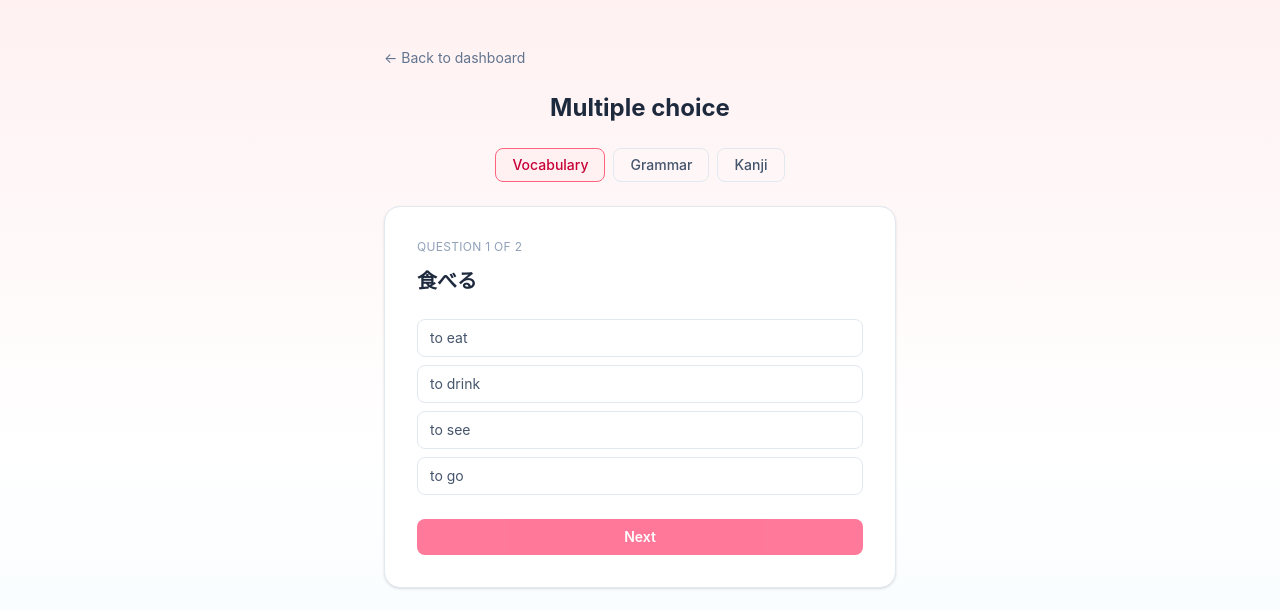
Test case: QuizPage › asks the AI Tutor to explain an incorrect answer
What coordinates should you click on to do the following:
click the radio button labelled "to eat"
I would click on:
 (449, 338)
Its box is [417, 319, 863, 357].
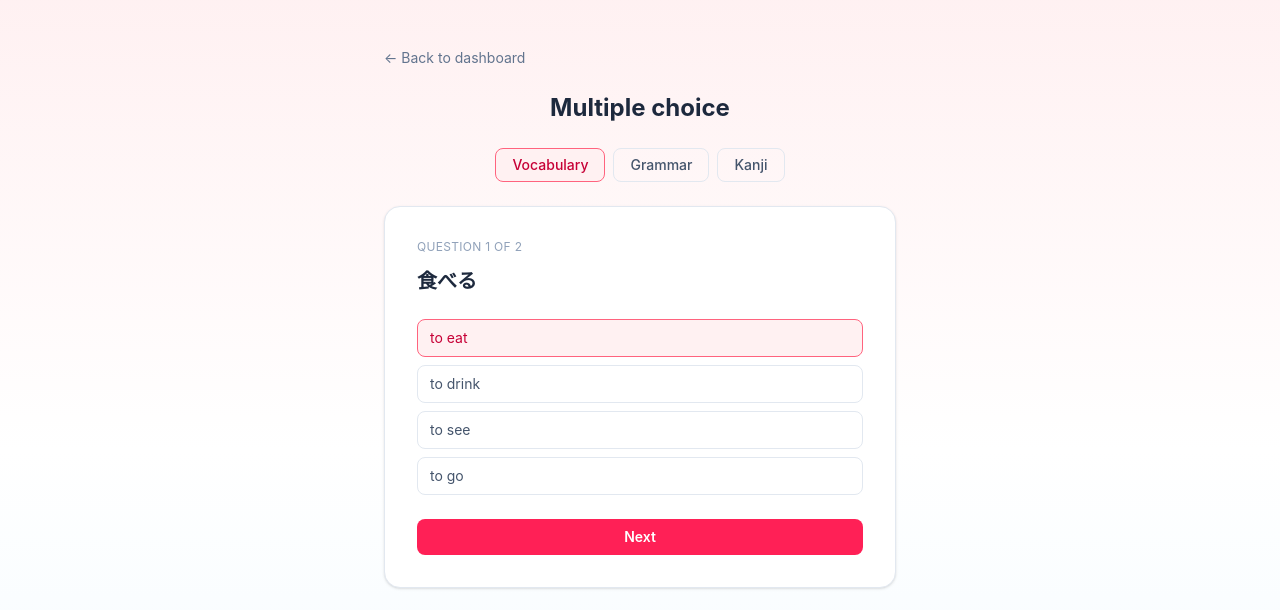
What coordinates should you click on to do the following:
click the button "Next"
I would click on:
 (640, 537)
Its box is [417, 519, 863, 555].
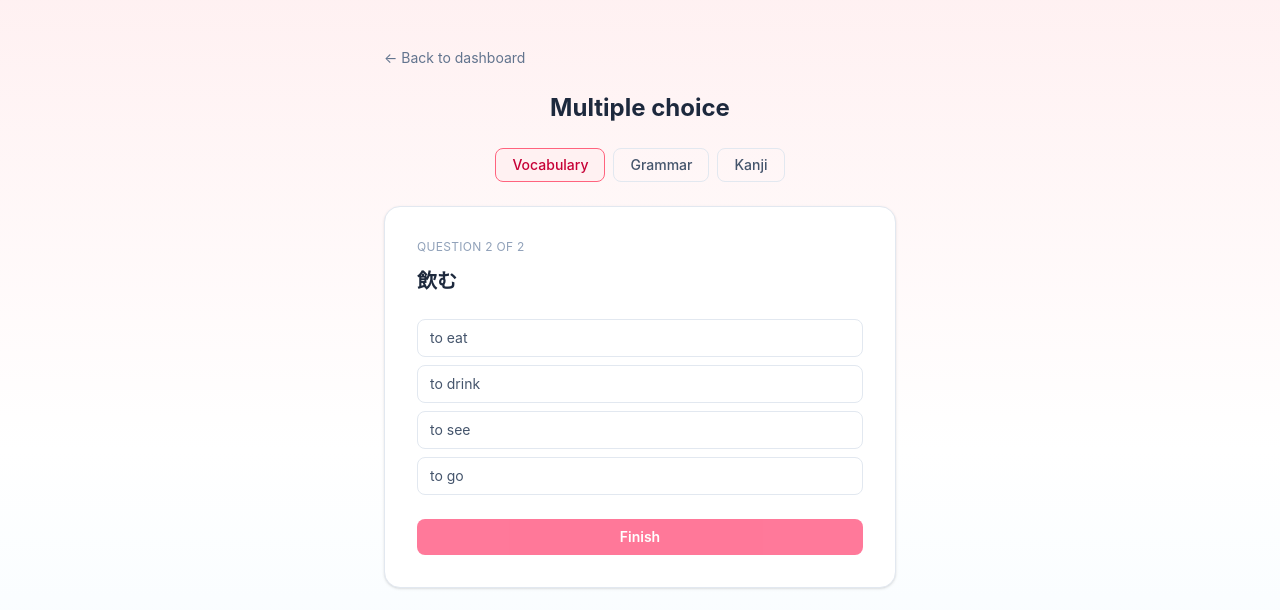
What coordinates should you click on to do the following:
click the radio button labelled "to see"
I would click on:
 (450, 430)
Its box is [417, 411, 863, 449].
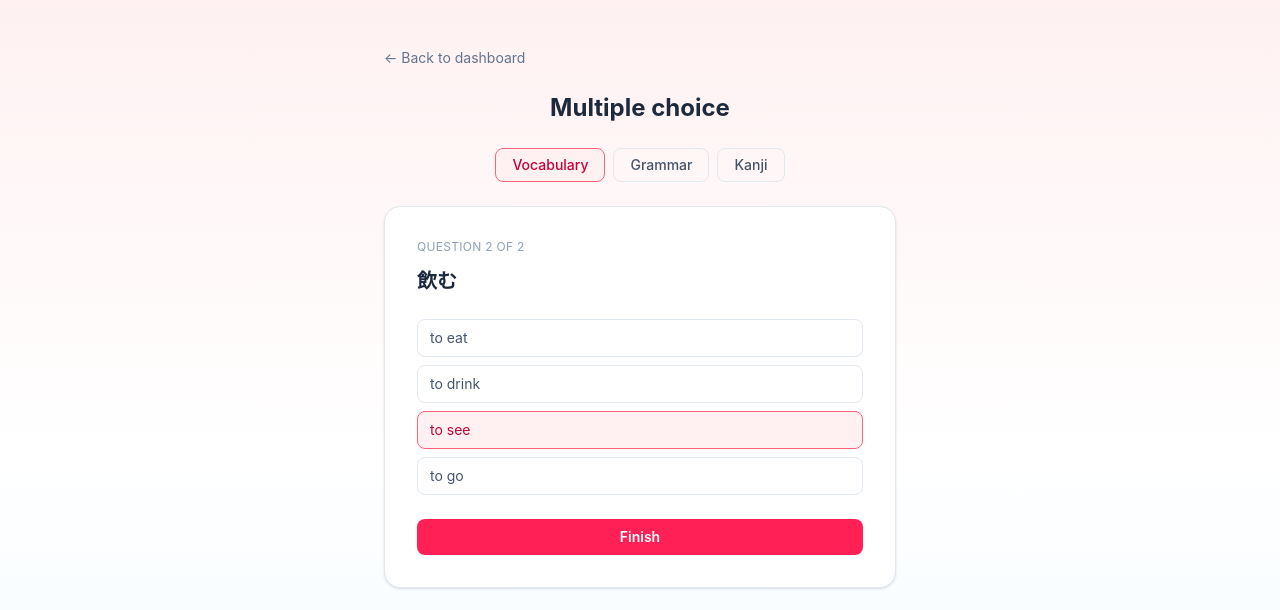
What coordinates should you click on to do the following:
click the button "Finish"
I would click on:
 (640, 537)
Its box is [417, 519, 863, 555].
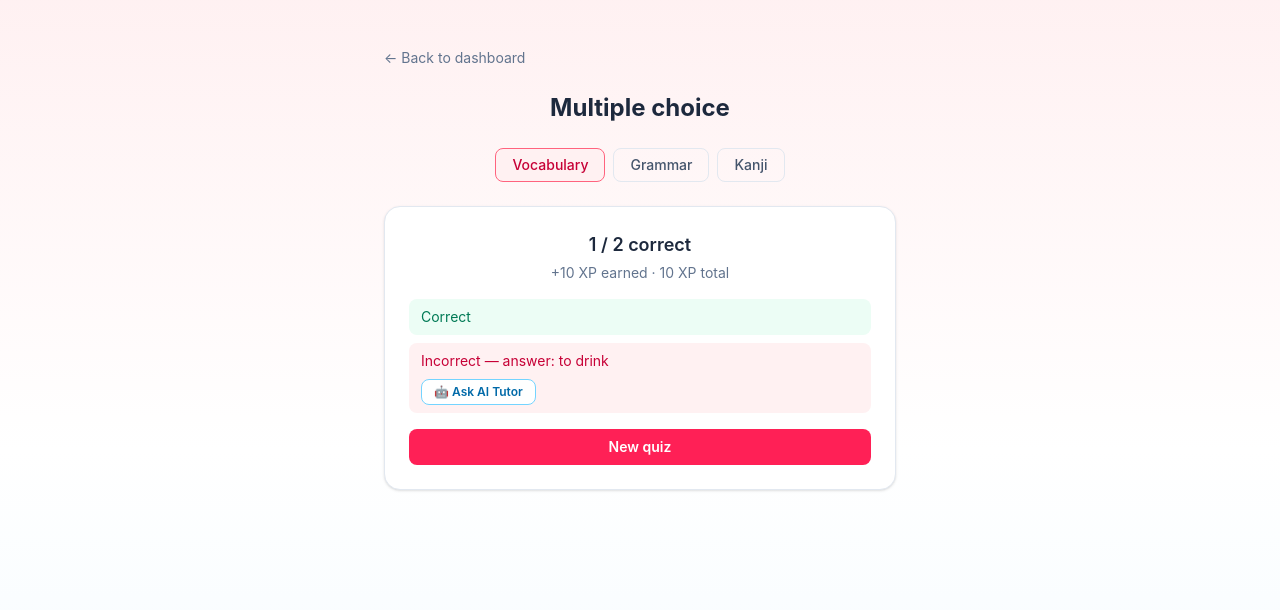
Result: the text "1 / 2 correct" is shown at [589, 234, 691, 255]
What coordinates should you click on to do the following:
click the button "🤖 Ask AI Tutor"
I would click on:
 (478, 392)
Its box is [421, 379, 536, 405].
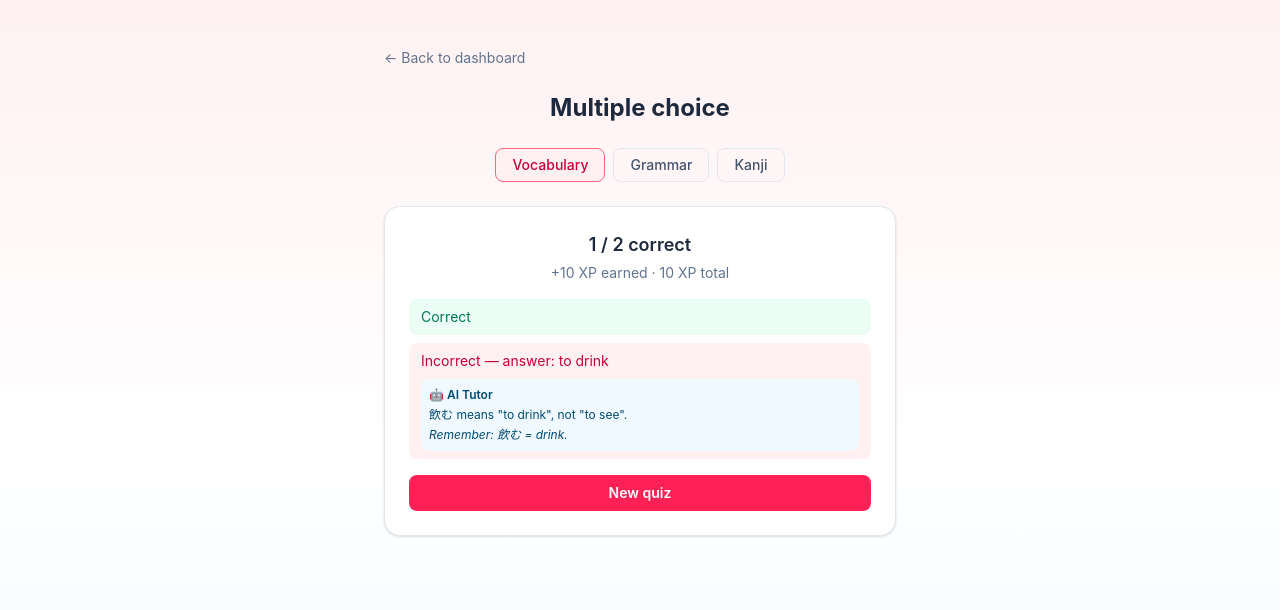
Result: the text "飲む means \"to drink\", not \"to see\"." is shown at [429, 407, 627, 422]
